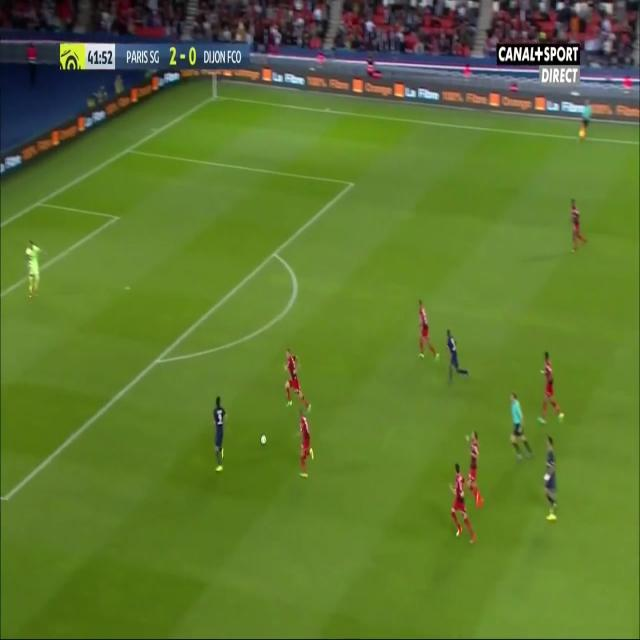Ball: (259, 432, 268, 448)
Goalkeeper: (24, 239, 40, 303)
Player: (448, 460, 478, 553), (536, 348, 569, 427), (282, 346, 314, 414), (542, 433, 562, 530), (414, 295, 442, 364), (467, 428, 488, 512), (444, 323, 472, 384), (210, 394, 230, 475), (567, 196, 592, 256), (296, 412, 316, 482)
Referee: (507, 388, 538, 465), (580, 95, 594, 141)
